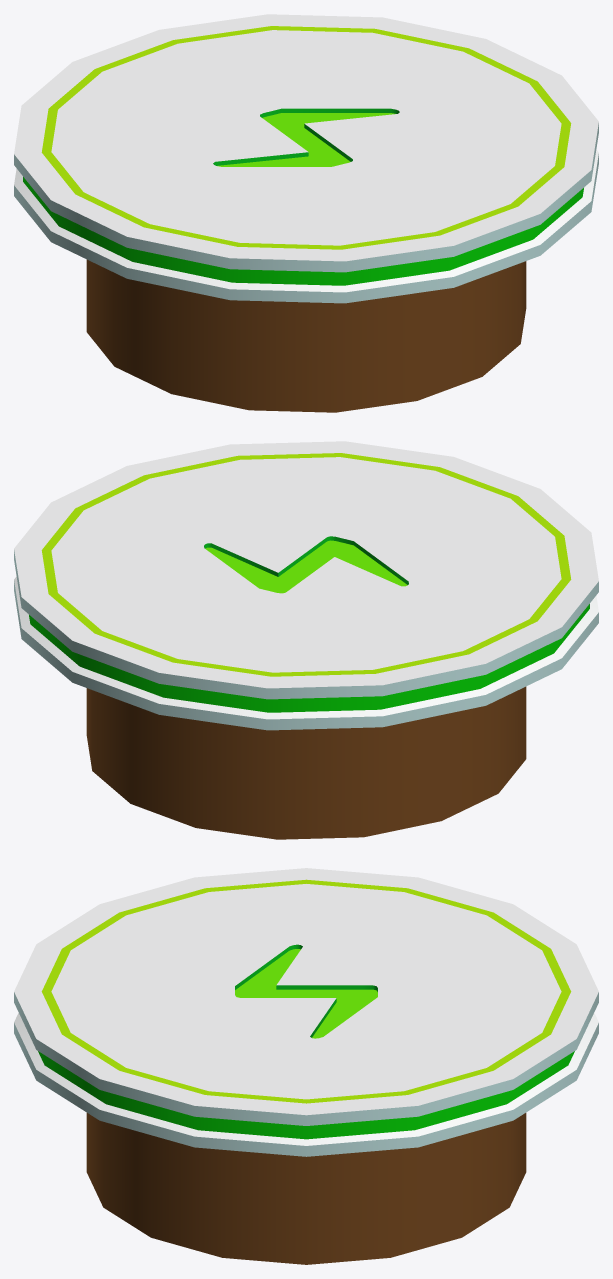
The model's file is NF_Floor_Table_A.fbx.
3 views of the same model, one above another, from view 1: azimuth 30°, elevation 25°; view 2: azimuth 150°, elevation 25°; view 3: azimuth 270°, elevation 25° (orthographic).
Visible parts, largest first — view 1: NF_Floor_Table_A; view 2: NF_Floor_Table_A; view 3: NF_Floor_Table_A.
Boxes of the visible parts, left/top/right/bottom form: NF_Floor_Table_A: left=14, top=14, right=598, bottom=412; NF_Floor_Table_A: left=14, top=441, right=598, bottom=839; NF_Floor_Table_A: left=14, top=868, right=598, bottom=1264.
Bounding box in the file's own units: 191 × 65 × 191.
